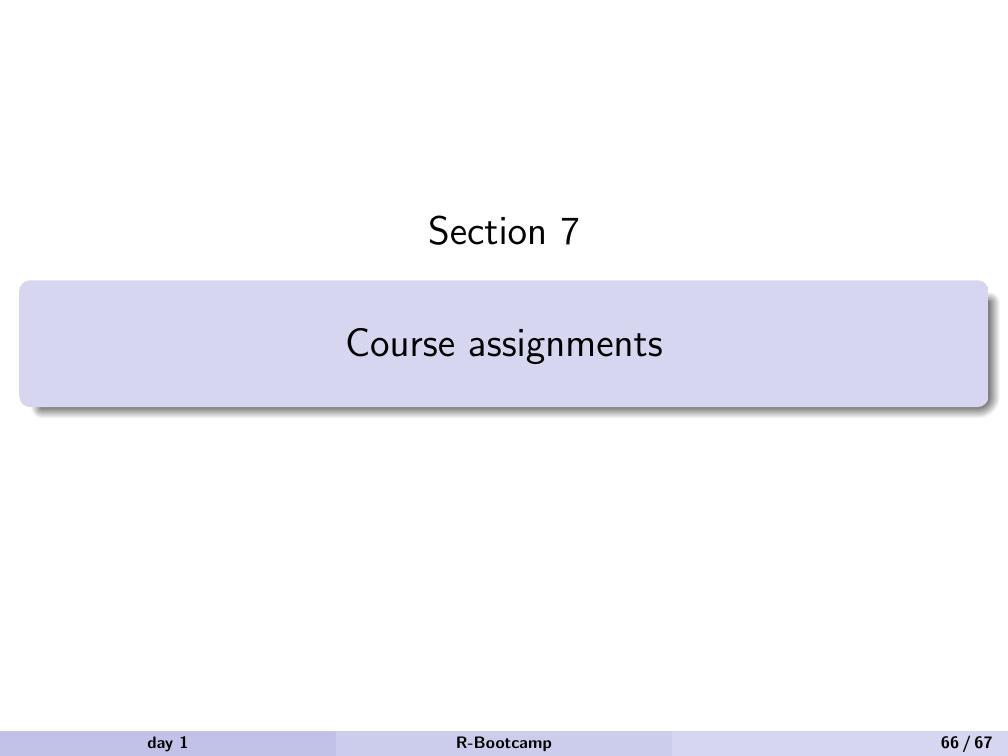Title: (338, 316, 673, 376)
